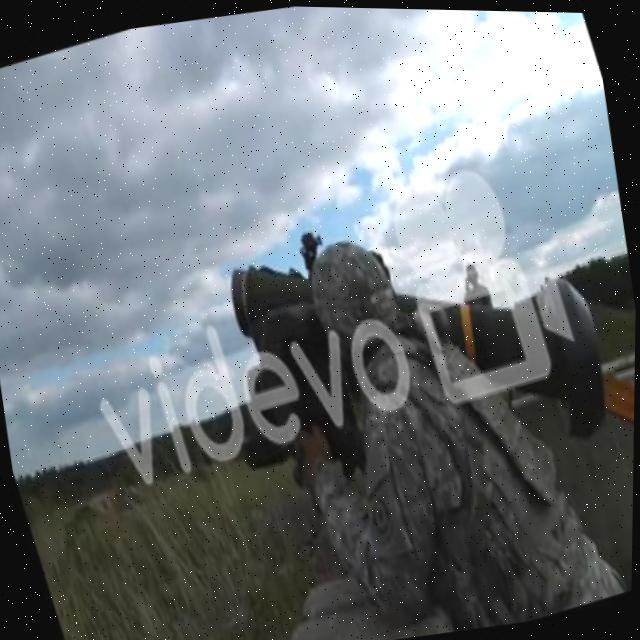rocket: (213, 155, 638, 531)
